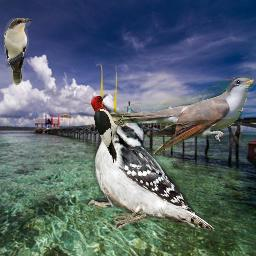Cuckoo: (103, 77, 254, 154), (4, 18, 33, 86)
Woodpecker: (84, 100, 214, 230), (90, 93, 126, 163)
